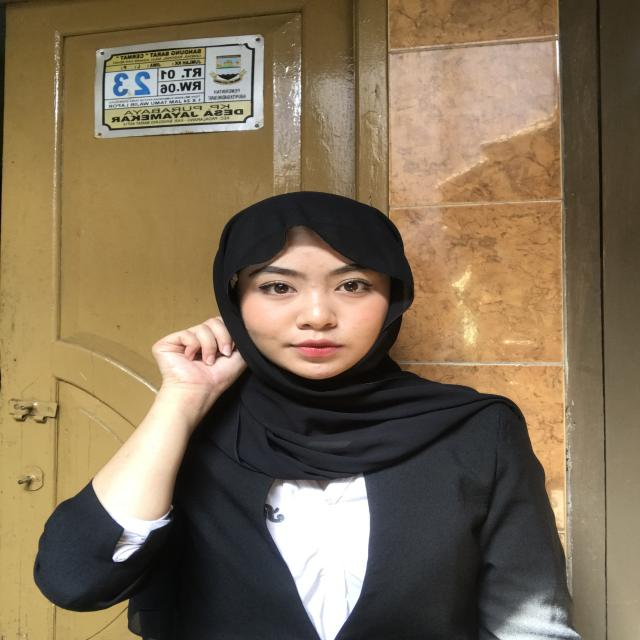ibu: (135, 305, 268, 431)
